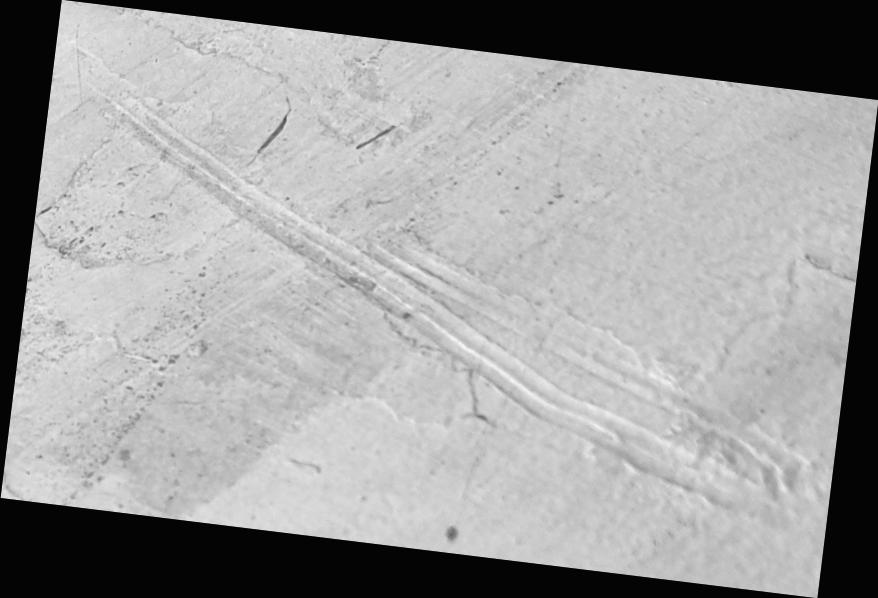scratch: (1, 0, 878, 598)
